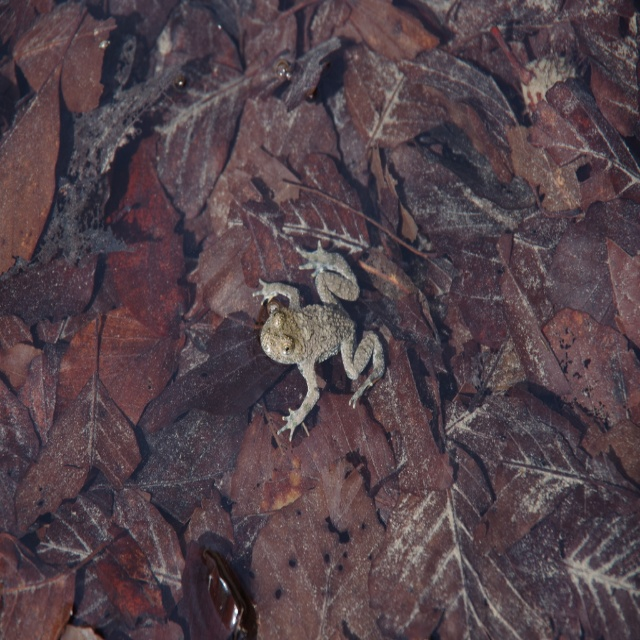Frog: (250, 240, 387, 444)
